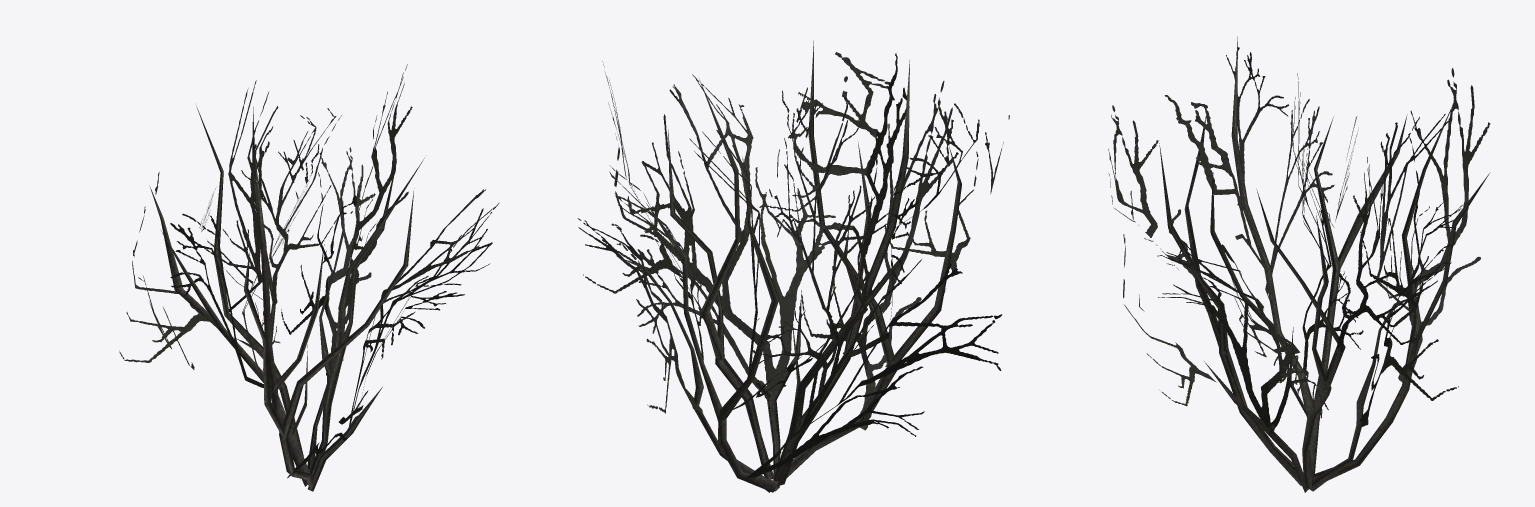
File: shrub_01a.glb
3 renders of one model, left to right at view 1: azimuth 30°, elevation 25°; view 2: azimuth 150°, elevation 25°; view 3: azimuth 270°, elevation 25°, orthographic. The views are drawn at different scales.
Parts seen in each view (by area): view 1: 0_tree_deciduous_01a_branches, 1_tree_deciduous_01a_trunk; view 2: 0_tree_deciduous_01a_branches, 1_tree_deciduous_01a_trunk; view 3: 0_tree_deciduous_01a_branches, 1_tree_deciduous_01a_trunk.
Boxes of the visible parts, x1=… form: 0_tree_deciduous_01a_branches: x1=119, y1=64, x2=499, y2=478; 1_tree_deciduous_01a_trunk: x1=149, y1=106, x2=424, y2=491; 0_tree_deciduous_01a_branches: x1=577, y1=52, x2=1009, y2=478; 1_tree_deciduous_01a_trunk: x1=616, y1=40, x2=961, y2=492; 0_tree_deciduous_01a_branches: x1=1108, y1=47, x2=1490, y2=433; 1_tree_deciduous_01a_trunk: x1=1159, y1=36, x2=1490, y2=492.
Size of the model in its own units: 2.1 by 1.82 by 1.67.
2 materials, 2 textured.
